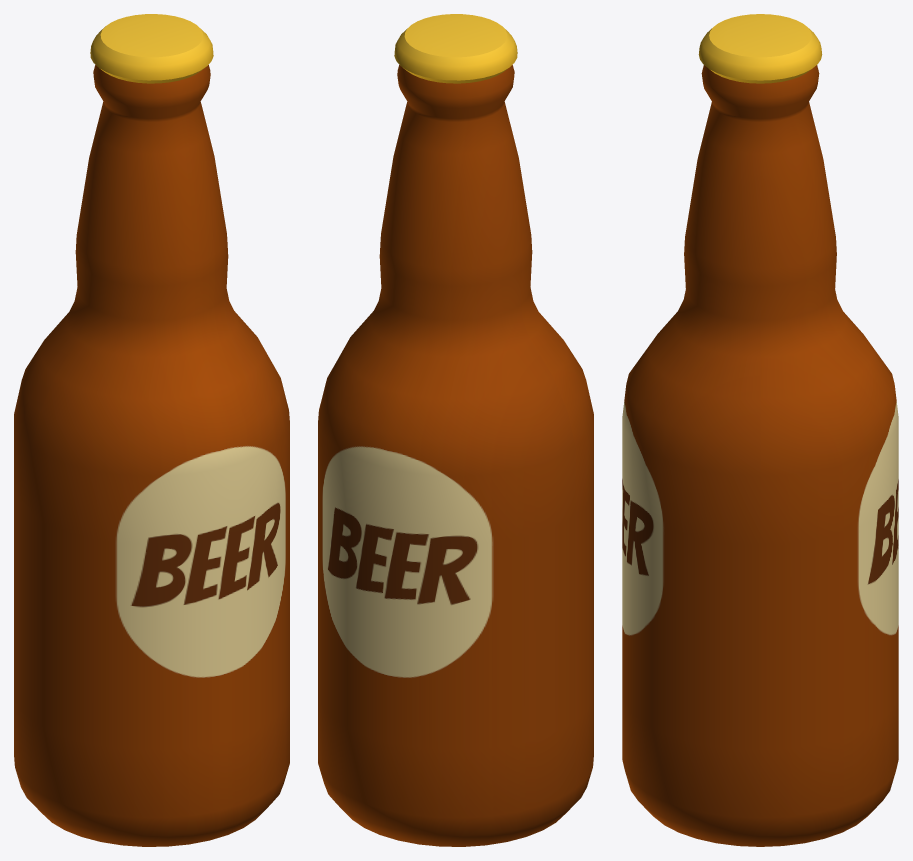
File: Beer Bottle.fbx
The picture shows the model from 3 angles, left to right: view 1: azimuth 30°, elevation 25°; view 2: azimuth 150°, elevation 25°; view 3: azimuth 270°, elevation 25°; orthographic projection.
Visible parts, largest first — view 1: Beer Bottle; view 2: Beer Bottle; view 3: Beer Bottle.
Part boxes in pixels (x1,y1,x2,y2): Beer Bottle: [14, 14, 289, 846]; Beer Bottle: [318, 14, 593, 846]; Beer Bottle: [622, 14, 898, 846].
Bounding box in the file's own units: 7.39 × 22.8 × 7.39.
